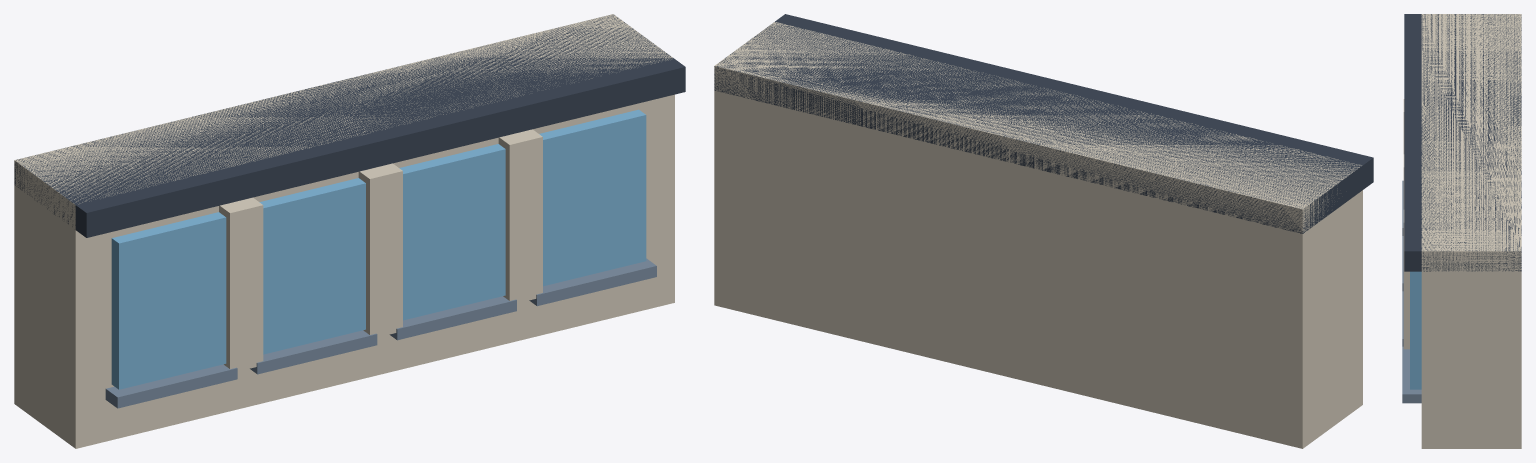
The model's file is cittaNuovaPianoB.glb.
3 renders of one model, left to right at view 1: azimuth 30°, elevation 25°; view 2: azimuth 150°, elevation 25°; view 3: azimuth 270°, elevation 25°, orthographic. The views are drawn at different scales.
Parts seen in each view (by area): view 1: cittaNuovaPianoB_concrete, cittaNuovaPianoB_glass, cittaNuovaPianoB_steelDark, cittaNuovaPianoB_steel; view 2: cittaNuovaPianoB_concrete, cittaNuovaPianoB_steelDark; view 3: cittaNuovaPianoB_concrete, cittaNuovaPianoB_steelDark, cittaNuovaPianoB_glass, cittaNuovaPianoB_steel.
Part boxes in pixels (bbox=[...]): cittaNuovaPianoB_concrete: bbox=[14, 14, 674, 448]; cittaNuovaPianoB_glass: bbox=[111, 109, 646, 389]; cittaNuovaPianoB_steelDark: bbox=[14, 14, 685, 237]; cittaNuovaPianoB_steel: bbox=[105, 258, 656, 408]; cittaNuovaPianoB_concrete: bbox=[714, 22, 1362, 448]; cittaNuovaPianoB_steelDark: bbox=[714, 14, 1373, 233]; cittaNuovaPianoB_concrete: bbox=[1403, 14, 1521, 448]; cittaNuovaPianoB_steelDark: bbox=[1404, 14, 1521, 271]; cittaNuovaPianoB_glass: bbox=[1410, 271, 1421, 389]; cittaNuovaPianoB_steel: bbox=[1402, 180, 1421, 403].
Bounding box in the file's own units: 9 × 3.5 × 1.91.
